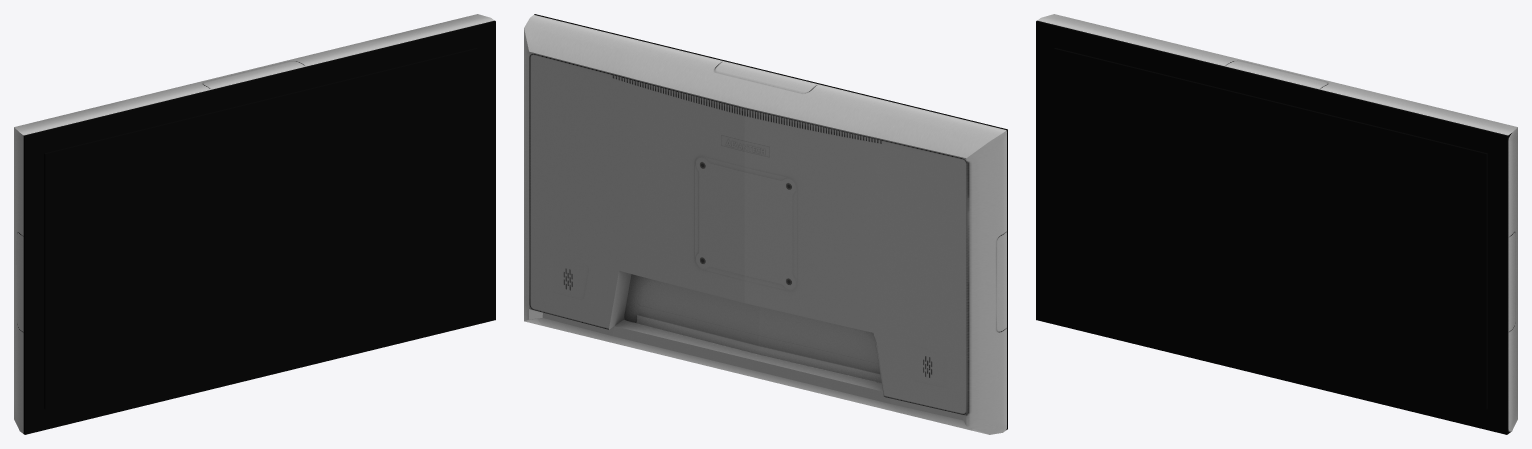
Rendered from UTC_320.fbx.
3 views of the same model, side by side, from view 1: azimuth 30°, elevation 25°; view 2: azimuth 150°, elevation 25°; view 3: azimuth 330°, elevation 25° (orthographic).
Parts seen in each view (by area): view 1: C, A, B; view 2: B, A; view 3: C, A, B.
Part boxes in pixels (<box>): C: <box>44,48,477,409</box>; A: <box>23,20,495,434</box>; B: <box>14,14,494,433</box>; B: <box>524,15,1006,434</box>; A: <box>534,14,1007,429</box>; C: <box>1054,48,1487,409</box>; A: <box>1036,20,1508,434</box>; B: <box>1037,14,1517,433</box>.
Bounding box in the file's own units: 52.03 × 31.51 × 5.34.
